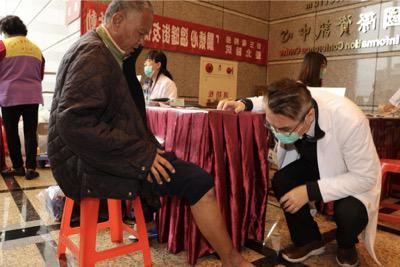with_mask: (265, 116, 305, 145), (143, 59, 156, 78), (316, 64, 327, 80)
without_mask: (116, 26, 151, 57)
